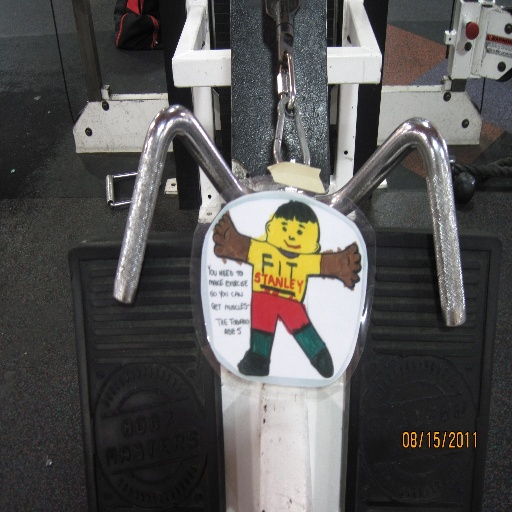hand: (325, 247, 369, 299), (210, 211, 237, 256)
